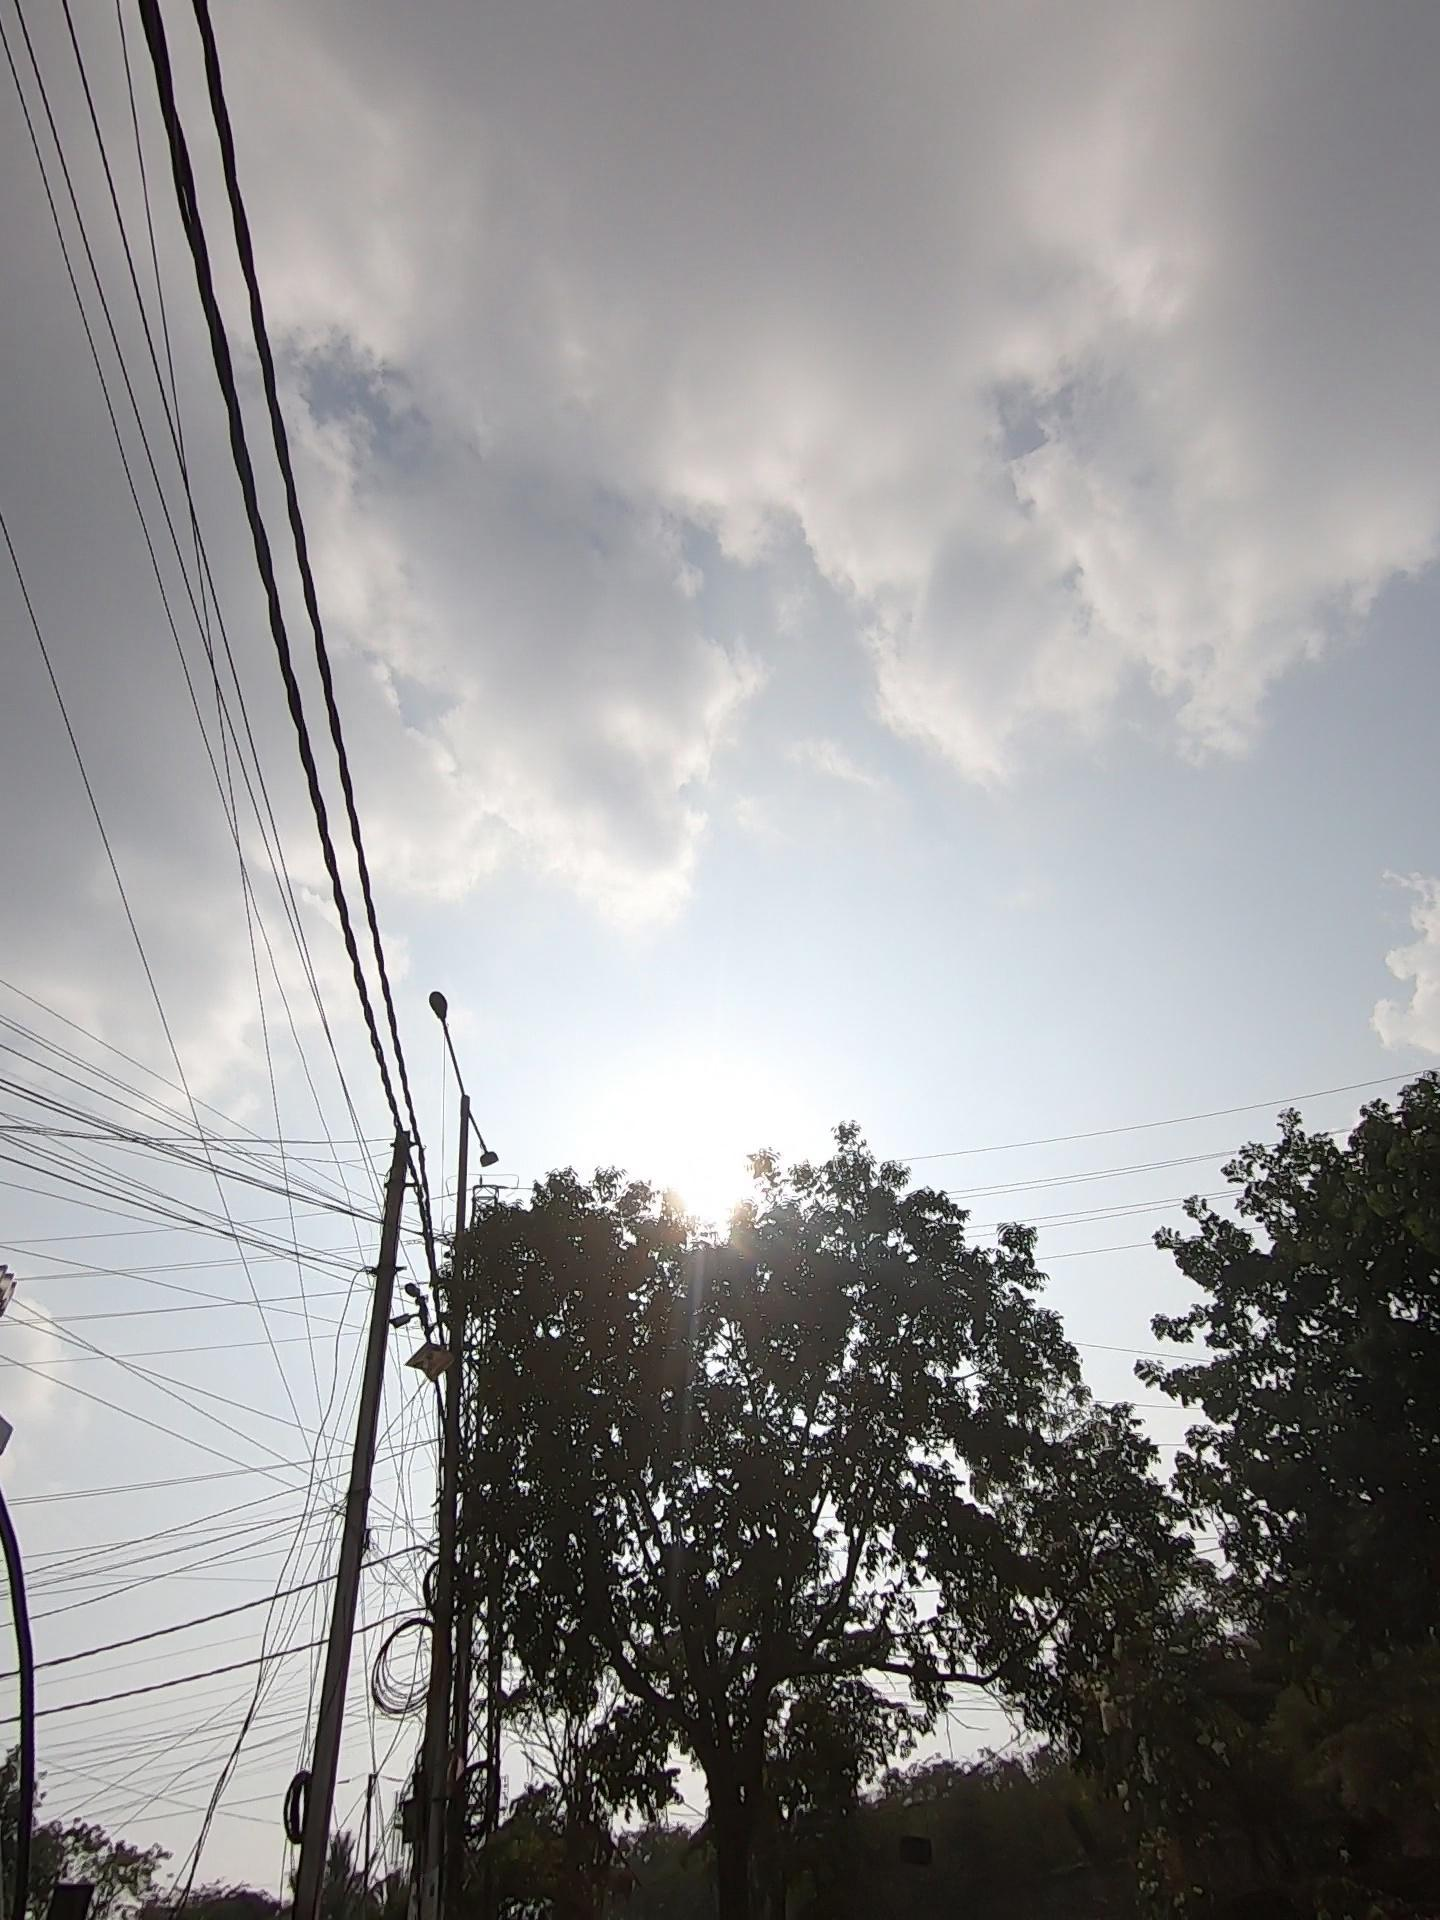off: (375, 810, 499, 1215)
